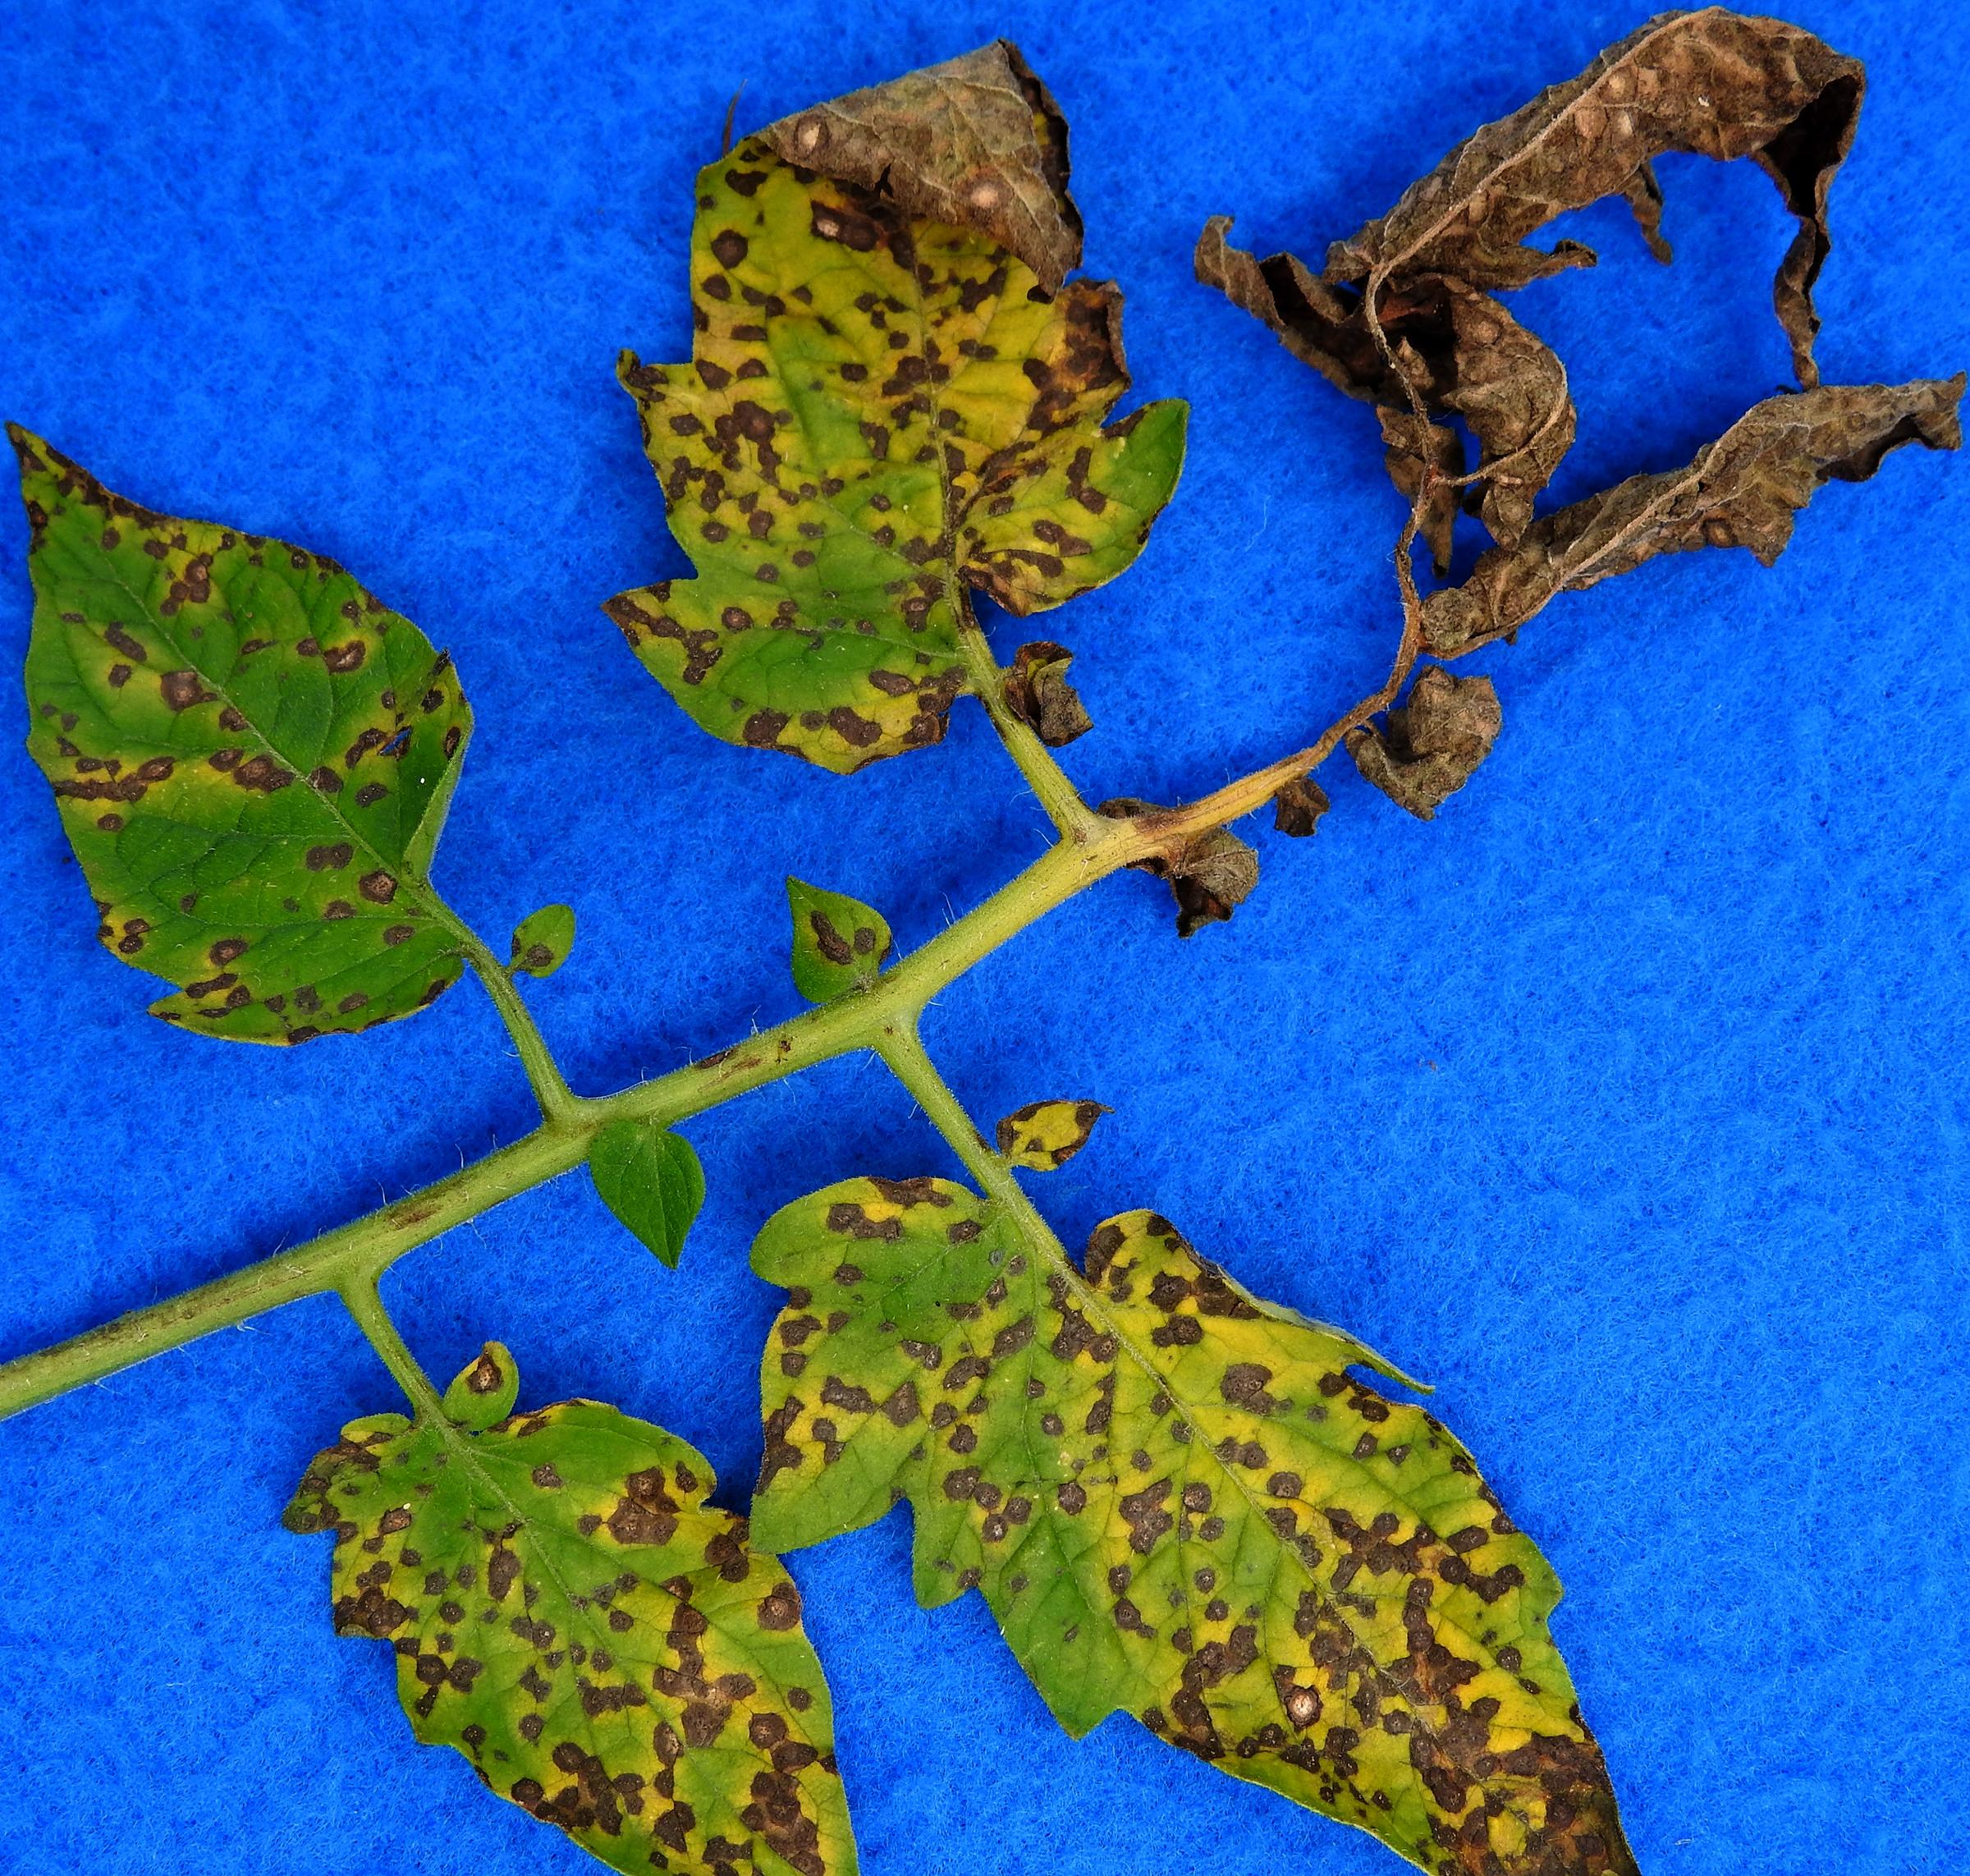Tomato Septoria leaf spot: (748, 1128, 1718, 1867), (607, 0, 1238, 769), (0, 392, 510, 1107), (288, 1341, 862, 1867)
